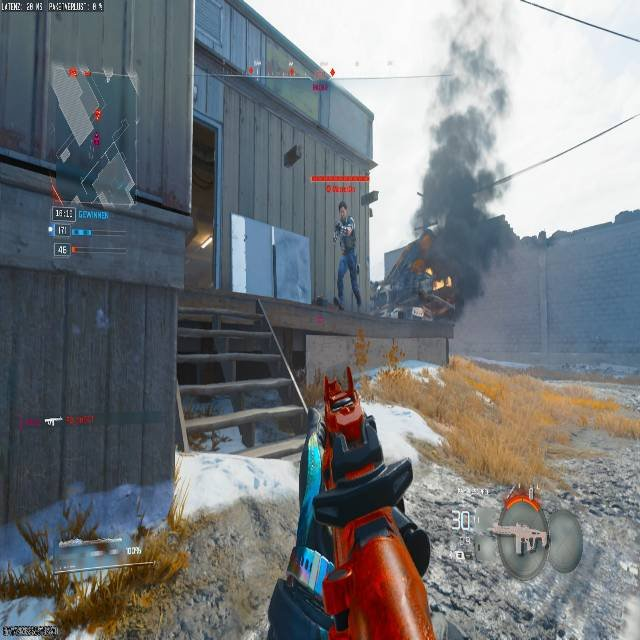head: (338, 201, 348, 217)
player: (334, 201, 358, 304)
